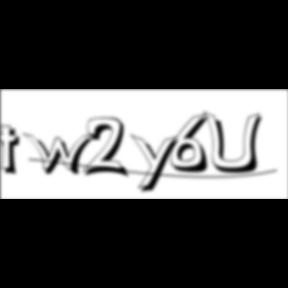2: (83, 117, 133, 181)
6: (170, 112, 216, 176)
U: (204, 110, 268, 176)
t: (1, 124, 28, 179)
w: (23, 132, 101, 178)
y: (131, 132, 185, 196)
